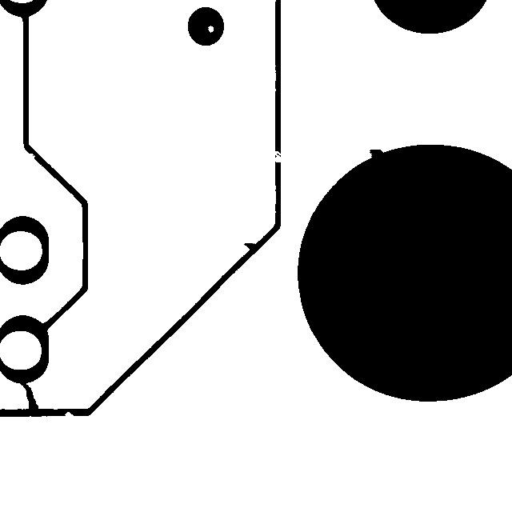mousebite: (57, 404, 81, 425), (21, 146, 42, 166)
open: (263, 143, 292, 170)
pin-hole: (200, 18, 221, 40)
short: (12, 373, 46, 420)
spur: (362, 142, 390, 166), (236, 235, 264, 258)
